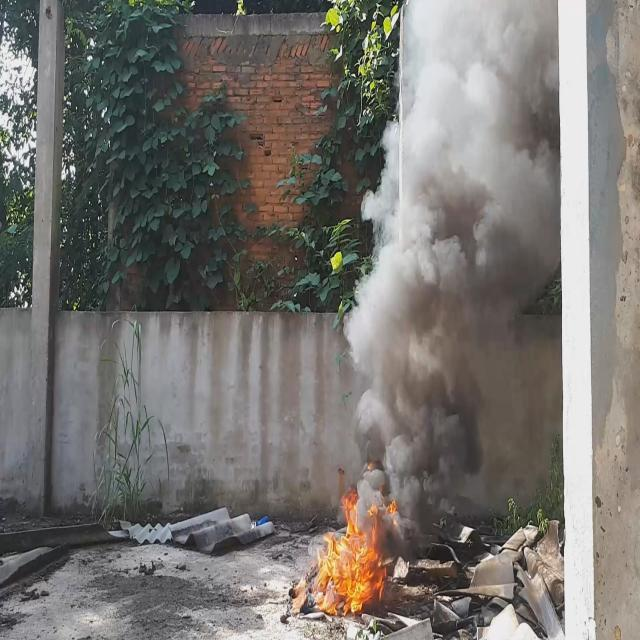Fire: (319, 462, 401, 617)
Smoke: (344, 0, 558, 530)
